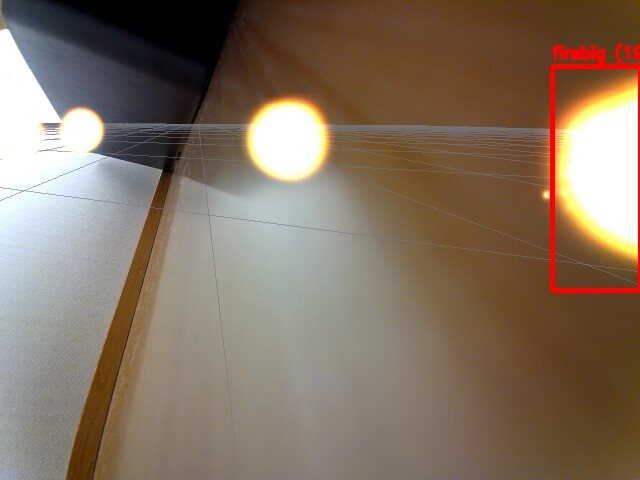firebig: (552, 66, 640, 290)
